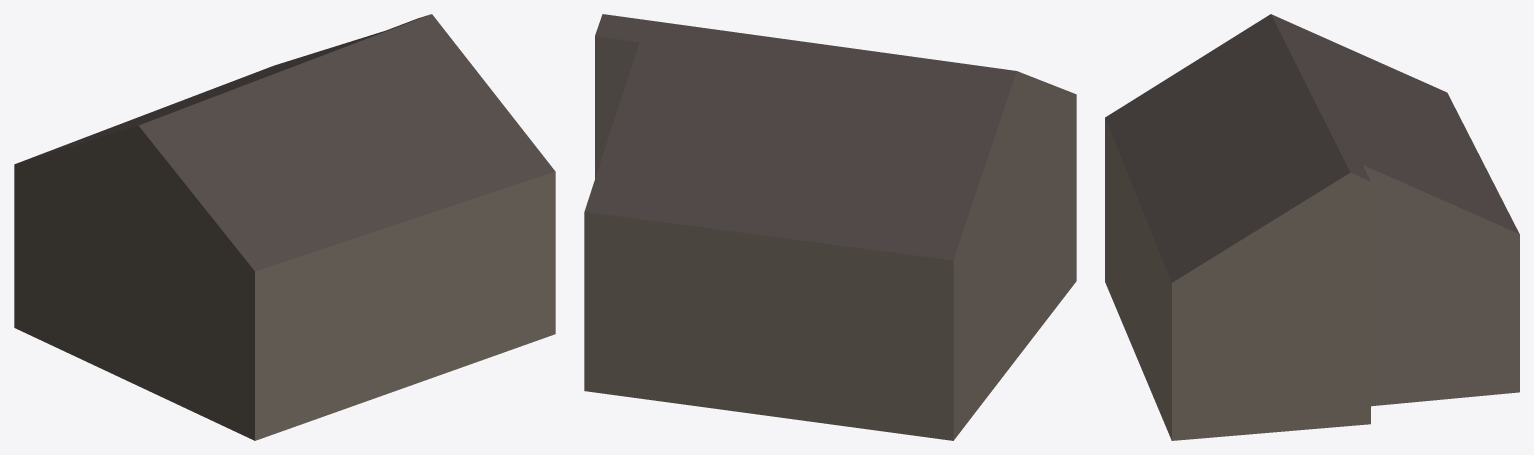
The picture shows the model from 3 angles, left to right: view 1: azimuth 30°, elevation 25°; view 2: azimuth 150°, elevation 25°; view 3: azimuth 270°, elevation 25°; orthographic projection. The views are drawn at different scales.
Visible parts, largest first — view 1: HP-w1198843243; view 2: HP-w1198843243; view 3: HP-w1198843243.
Boxes of the visible parts, x1,y1,x2,y2 form: HP-w1198843243: (14, 14, 555, 440); HP-w1198843243: (584, 14, 1076, 440); HP-w1198843243: (1105, 14, 1519, 440).
Bounding box in the file's own units: 15.43 × 9.62 × 14.27.
